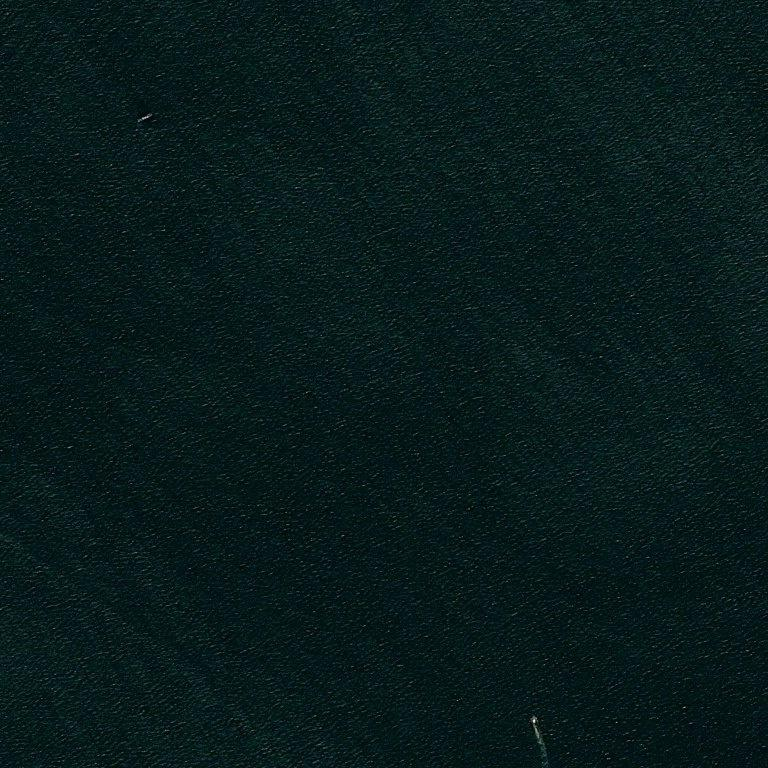ship: (59, 39, 77, 43), (533, 716, 536, 718), (150, 113, 152, 116), (138, 121, 140, 123), (536, 725, 537, 727), (534, 719, 534, 724), (529, 726, 532, 726), (137, 119, 140, 119)
